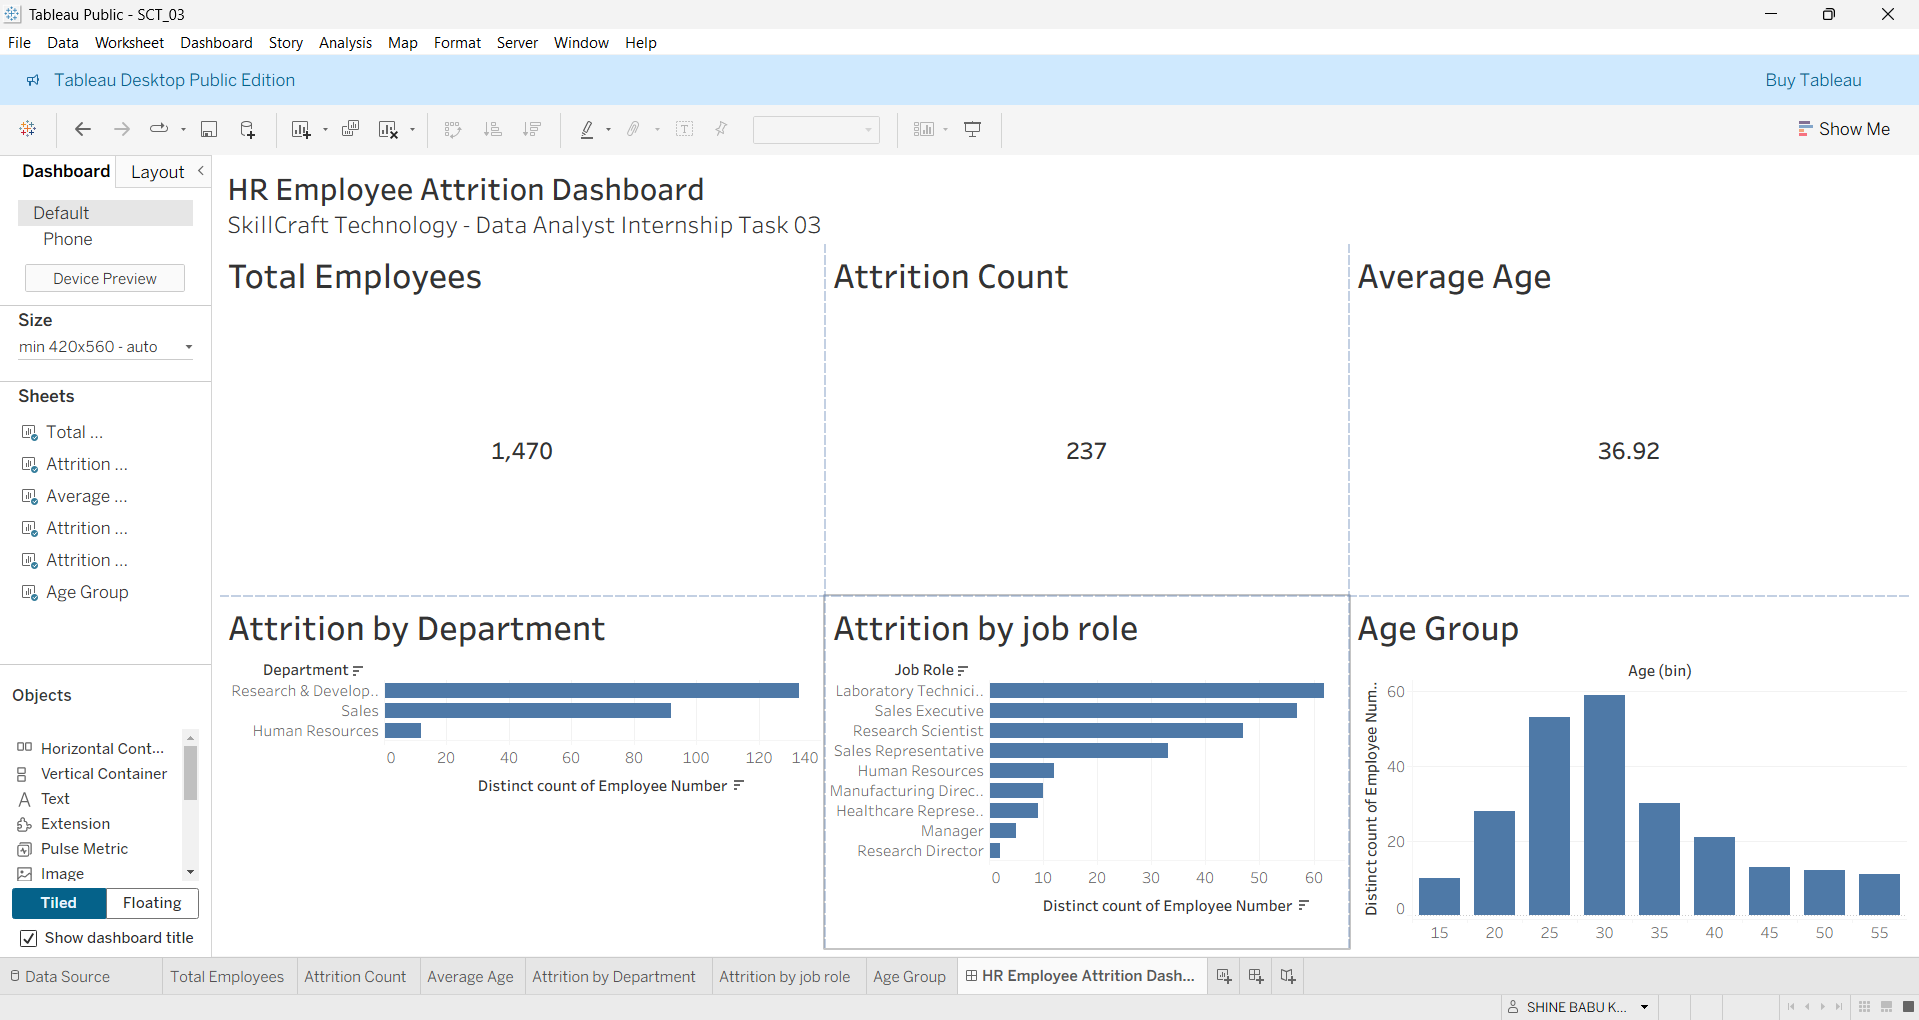

The dashboard page shown, as its layout file describes it:
{"tool":"tableau","page":{"name":"HR Employee Attrition Dashboard","canvas":[1000,1000],"units":"permille","ordinal":0},"visuals":[{"type":"title","box":[4.7,10,990.6,101.1]},{"type":"worksheet","title":"Total Employees","mark":"Automatic","box":[4.7,111.1,354.3,439.4]},{"type":"worksheet","title":"Attrition Count","mark":"Automatic","box":[359,111.1,307.3,439.4]},{"type":"worksheet","title":"Average Age","mark":"Automatic","box":[666.3,111.1,329,439.4]},{"type":"worksheet","title":"Attrition by Department","mark":"Automatic","rows":["Department"],"cols":["EmployeeNumber"],"box":[4.7,550.6,354.3,439.5]},{"type":"worksheet","title":"Attrition by job role","mark":"Automatic","rows":["JobRole"],"cols":["EmployeeNumber"],"box":[359,550.6,307.3,439.5]},{"type":"worksheet","title":"Age Group","mark":"Automatic","rows":["EmployeeNumber"],"cols":["Age (bin)"],"box":[666.3,550.6,329,439.5]}]}

Visuals, with their boxes on the dashboard's canvas, which has no fixed pixel size, in thousandths of its width and height (x1, y1, x2, y2). These are canvas units, not pixel positions in the 1919x1020 screenshot, which may show the page scaled, cropped or inside an application window:
title: [left=5, top=10, right=995, bottom=111]
"Total Employees" worksheet: [left=5, top=111, right=359, bottom=550]
"Attrition Count" worksheet: [left=359, top=111, right=666, bottom=550]
"Average Age" worksheet: [left=666, top=111, right=995, bottom=550]
"Attrition by Department" worksheet: [left=5, top=551, right=359, bottom=990]
"Attrition by job role" worksheet: [left=359, top=551, right=666, bottom=990]
"Age Group" worksheet: [left=666, top=551, right=995, bottom=990]
